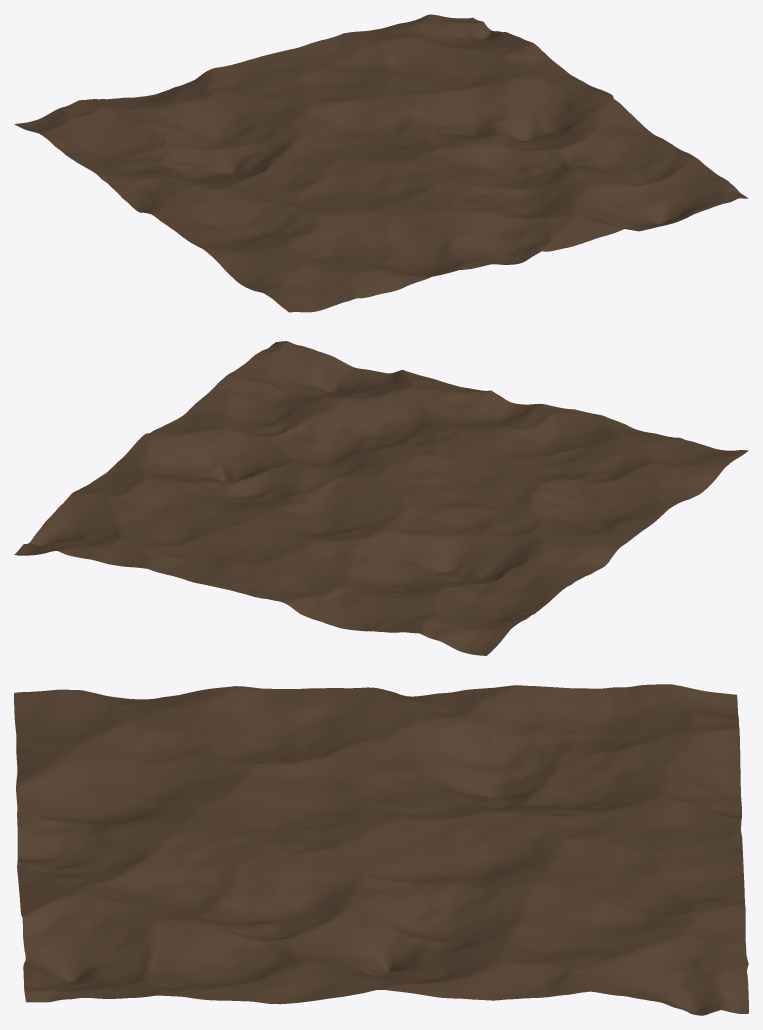
Rendered from desert.glb.
The picture shows the model from 3 angles, top to bottom: view 1: azimuth 30°, elevation 25°; view 2: azimuth 150°, elevation 25°; view 3: azimuth 270°, elevation 25°; orthographic projection. The views are drawn at different scales.
Visible parts, largest first — view 1: Plane-003; view 2: Plane-003; view 3: Plane-003.
Part boxes in pixels (box(x1,y1,x2,y2)): Plane-003: box(14, 14, 748, 312); Plane-003: box(14, 341, 748, 655); Plane-003: box(14, 684, 748, 1015).
Bounding box in the file's own units: 14.56 × 0.947 × 14.53.
